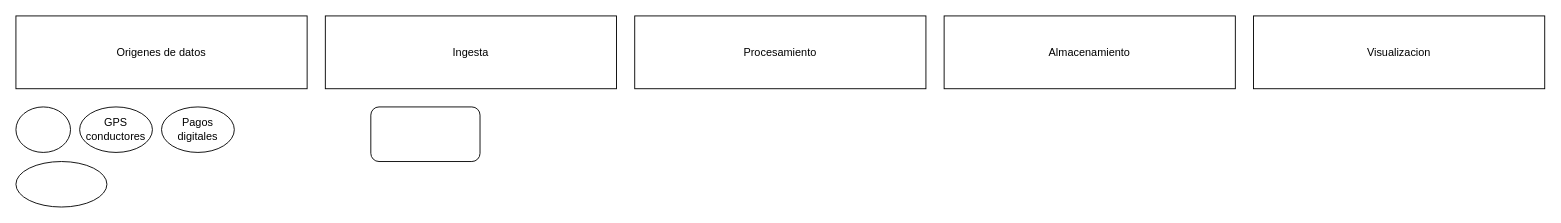
Some shapes in this 1561 by 223 pixel diagram are drawn without their labels. Here are the shapes that lost their labels. From the top down, the centre of each, then its label:
At (43,129): "Moviles".
At (425,134): "Apache kafka".
At (61,184): "Base de datos interna".
